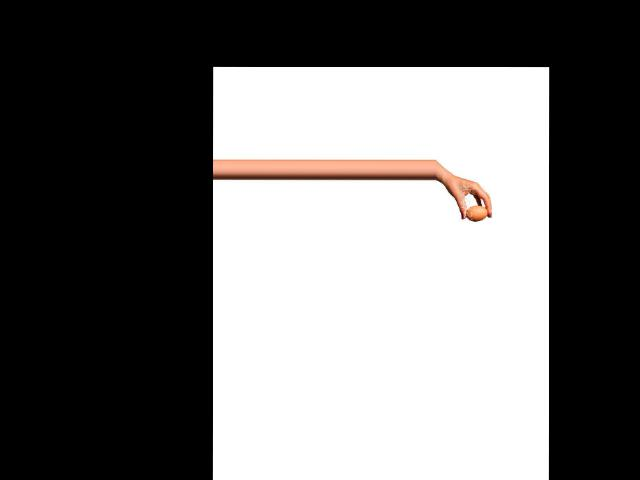egg: (465, 205, 487, 220)
